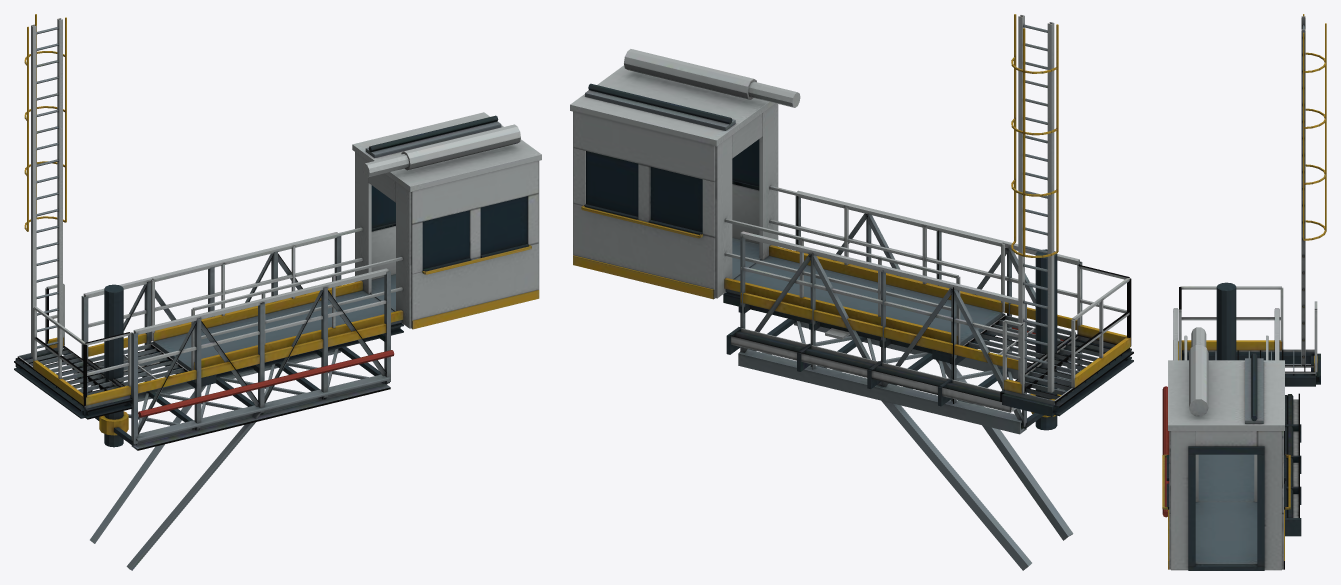
File: access_crew_arm_v5.glb
3 renders of one model, left to right at view 1: azimuth 30°, elevation 25°; view 2: azimuth 150°, elevation 25°; view 3: azimuth 270°, elevation 25°, orthographic. The views are drawn at different scales.
Visible parts, largest first — view 1: white_room, fixed, ladder_body; view 2: white_room, fixed, ladder_body; view 3: white_room, fixed, ladder_body.
Boxes of the visible parts, x1,y1,x2,y2 form: white_room: (151,112,541,386); fixed: (14,232,394,570); ladder_body: (24,14,66,357); white_room: (570,49,1005,362); fixed: (726,190,1133,570); ladder_body: (1011,14,1058,392); white_room: (1162,327,1290,570); fixed: (1162,282,1320,536); ladder_body: (1301,14,1326,366).
Size of the model in its own units: 8.68 by 9.35 by 2.66.
Materials: 3 (3 with a texture image).
